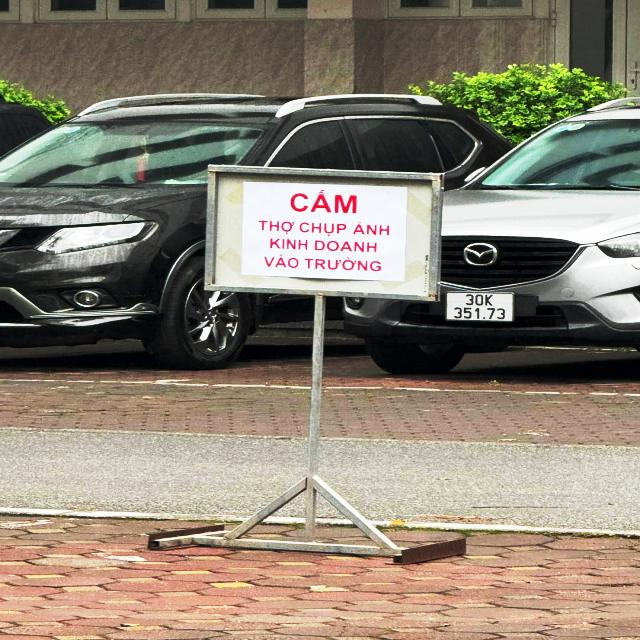license_plate: (443, 291, 518, 325)
